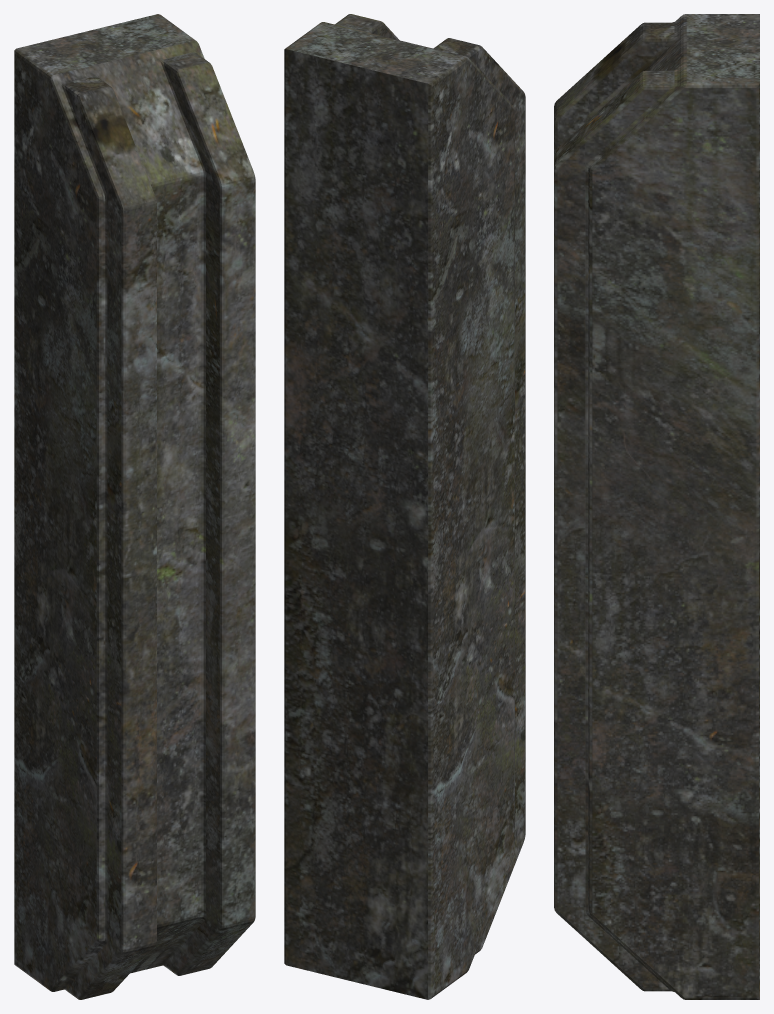
Rendered from room 3 pillar deco.fbx.
3 renders of one model, left to right at view 1: azimuth 30°, elevation 25°; view 2: azimuth 150°, elevation 25°; view 3: azimuth 270°, elevation 25°, orthographic.
Visible parts, largest first — view 1: Cube.109; view 2: Cube.109; view 3: Cube.109.
Part boxes in pixels (x1,y1,x2,y2): Cube.109: (14,14,255,999); Cube.109: (284,14,525,999); Cube.109: (554,14,759,999).
Bounding box in the file's own units: 60.96 × 361 × 73.42.
